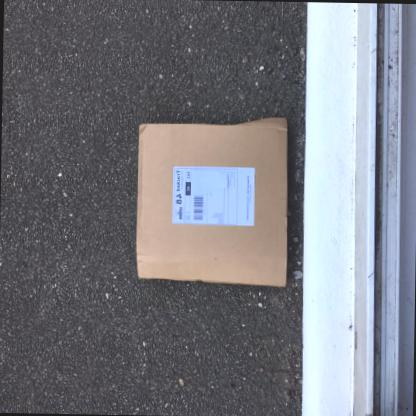box: (132, 113, 296, 292)
